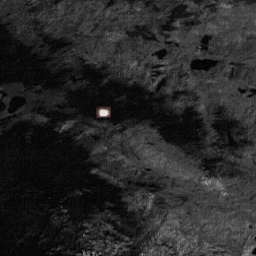Target: (98, 108, 107, 117)
